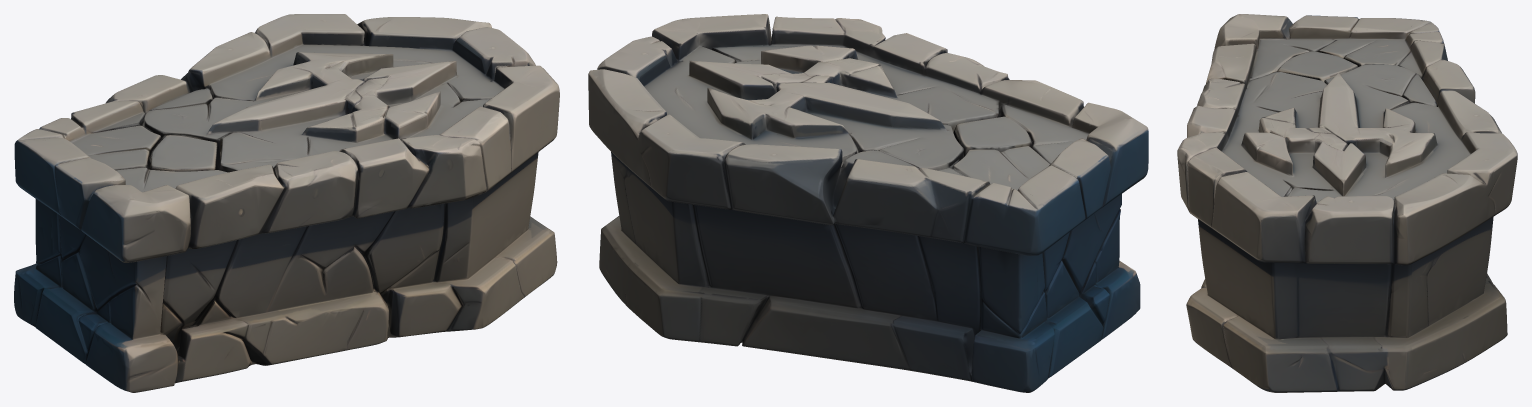
The model's file is coffin.glb.
3 views of the same model, side by side, from view 1: azimuth 30°, elevation 25°; view 2: azimuth 150°, elevation 25°; view 3: azimuth 270°, elevation 25° (orthographic). The views are drawn at different scales.
Visible parts, largest first — view 1: node_0; view 2: node_0; view 3: node_0.
Boxes of the visible parts, x1=… form: node_0: x1=14, y1=14, x2=559, y2=392; node_0: x1=588, y1=14, x2=1148, y2=392; node_0: x1=1177, y1=14, x2=1517, y2=392.
Size of the model in its own units: 1.04 by 0.4314 by 0.7156.
Materials: 1 (1 with a texture image).
